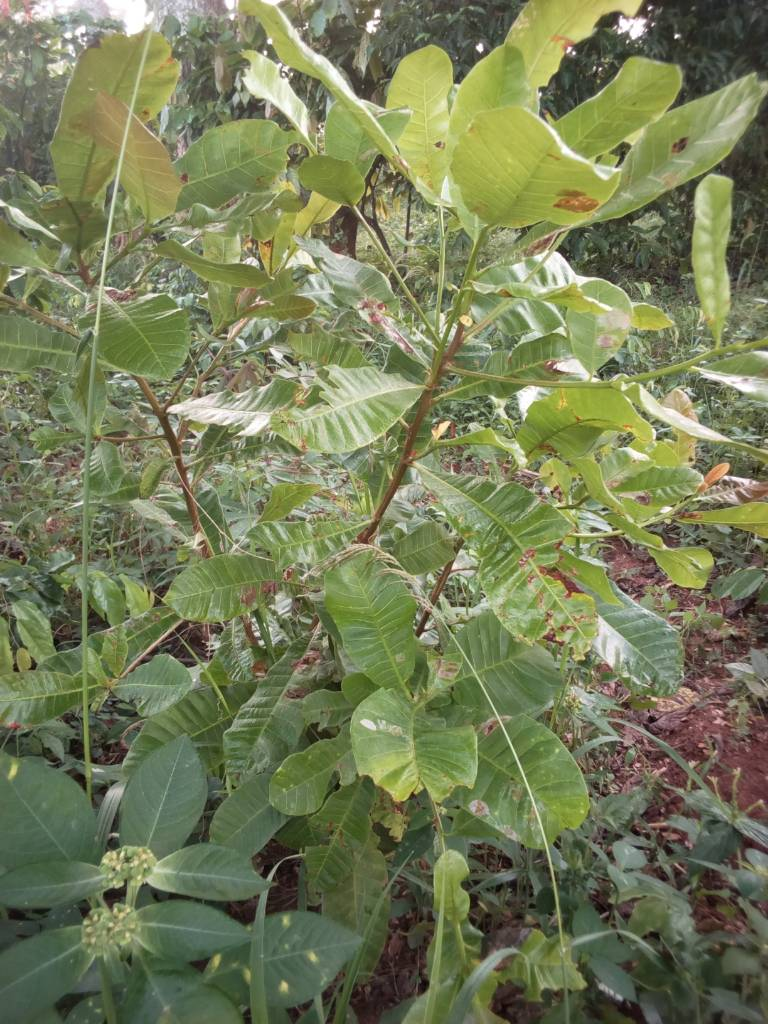Dysdercus wolkerii: (433, 100, 624, 230), (158, 549, 302, 630)
